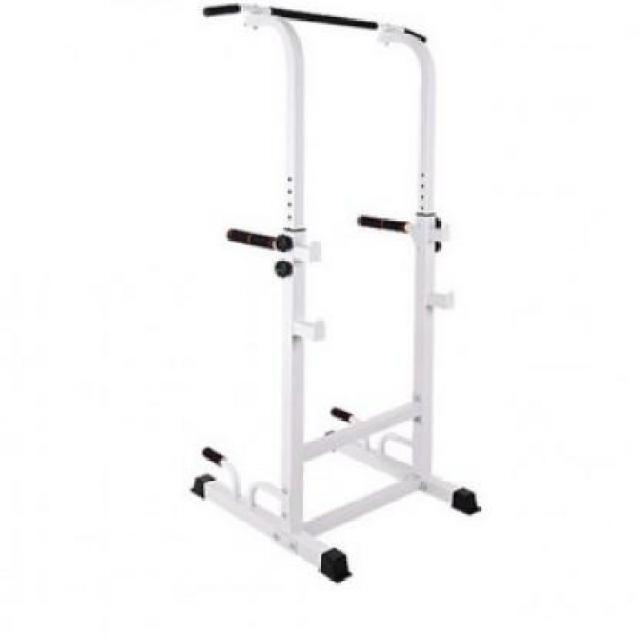chinning dipping: (193, 2, 484, 580)
